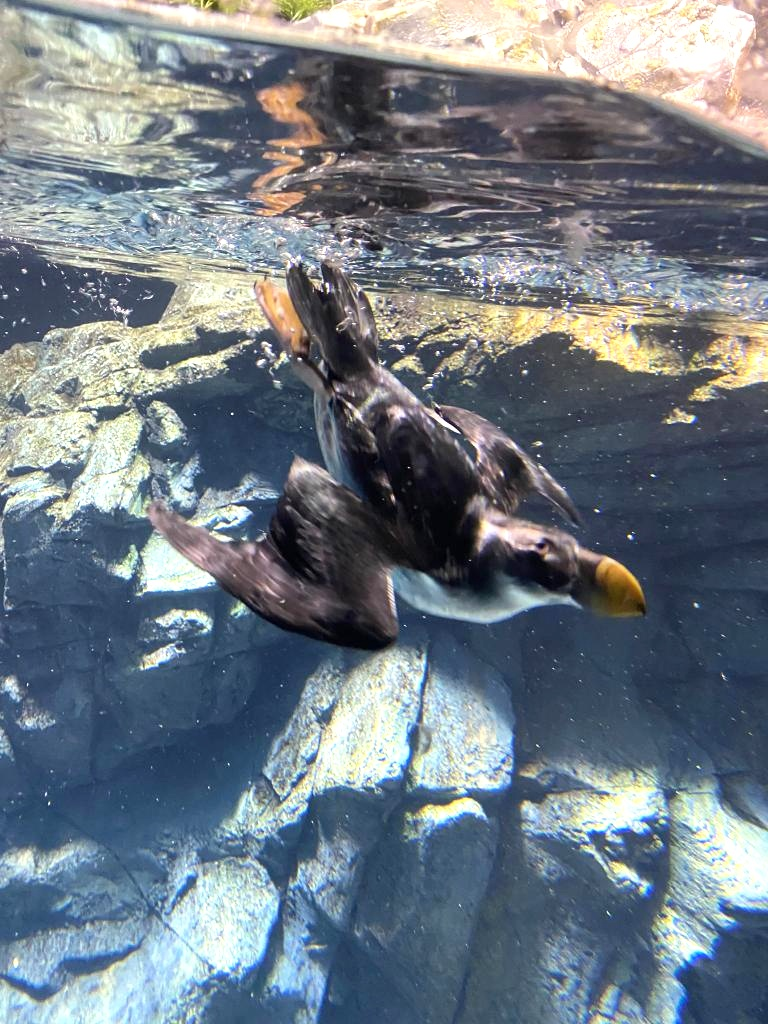puffin: (147, 240, 651, 648)
